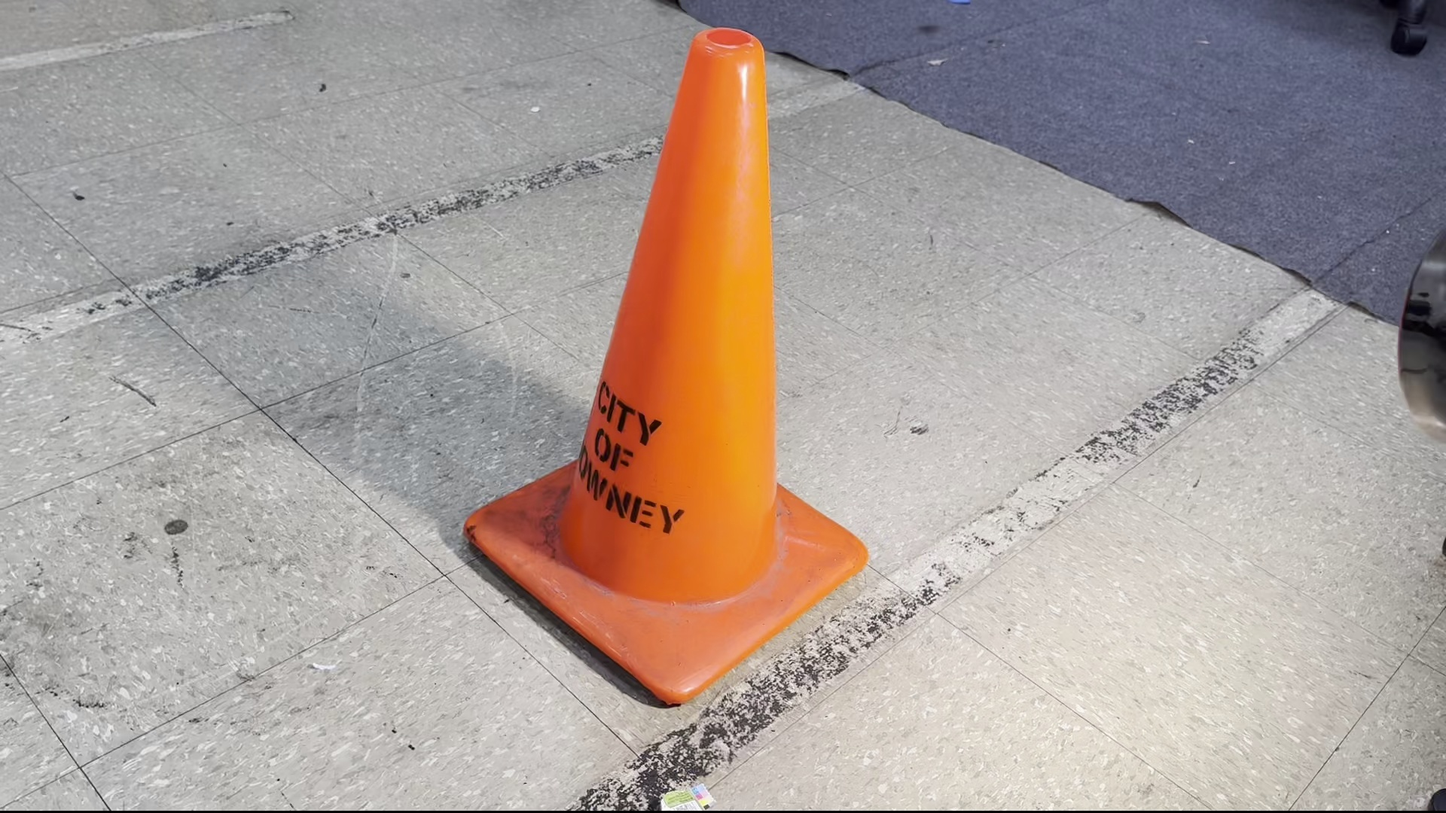traffic_cone: (463, 26, 870, 707)
